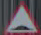Speed Breaker ahead: (1, 2, 39, 34)
